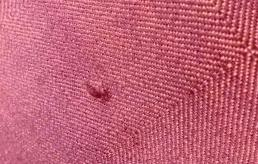knot: (86, 82, 113, 105)
